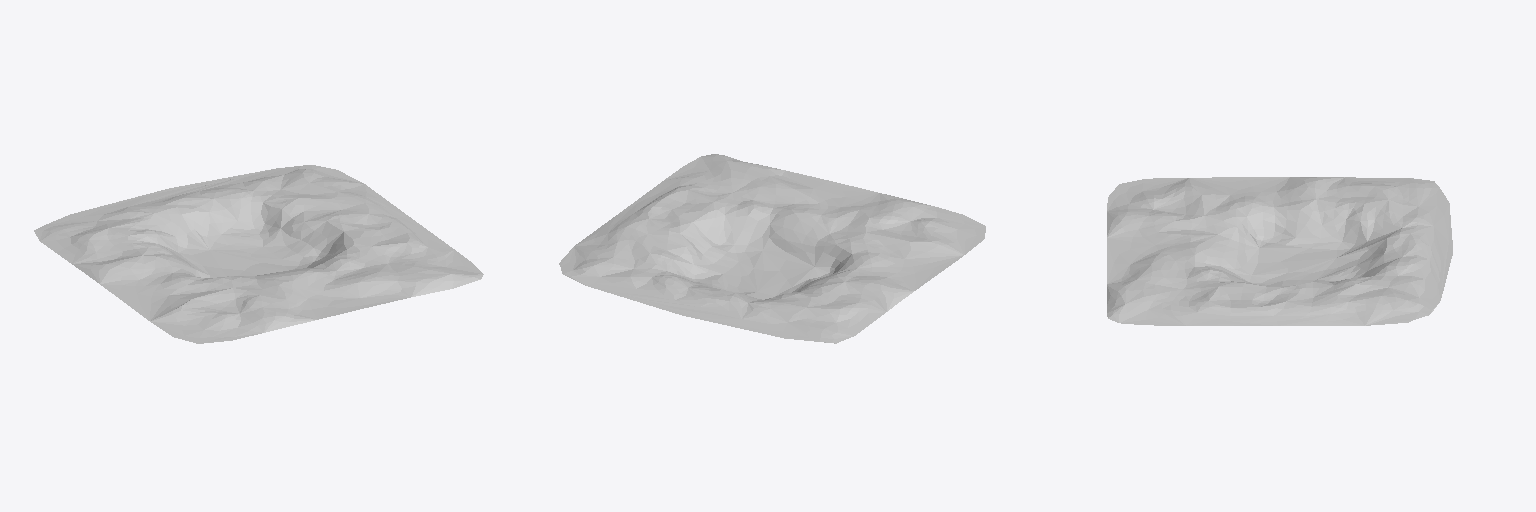
File: Oasis.obj
The picture shows the model from 3 angles: view 1: azimuth 30°, elevation 25°; view 2: azimuth 150°, elevation 25°; view 3: azimuth 270°, elevation 25°; orthographic projection.
Visible parts, largest first — view 1: Plane; view 2: Plane; view 3: Plane.
Boxes of the visible parts, x1=… form: Plane: x1=34, y1=165, x2=483, y2=343; Plane: x1=559, y1=154, x2=985, y2=343; Plane: x1=1107, y1=177, x2=1452, y2=325.
Size of the model in its own units: 50 by 3.78 by 49.61.